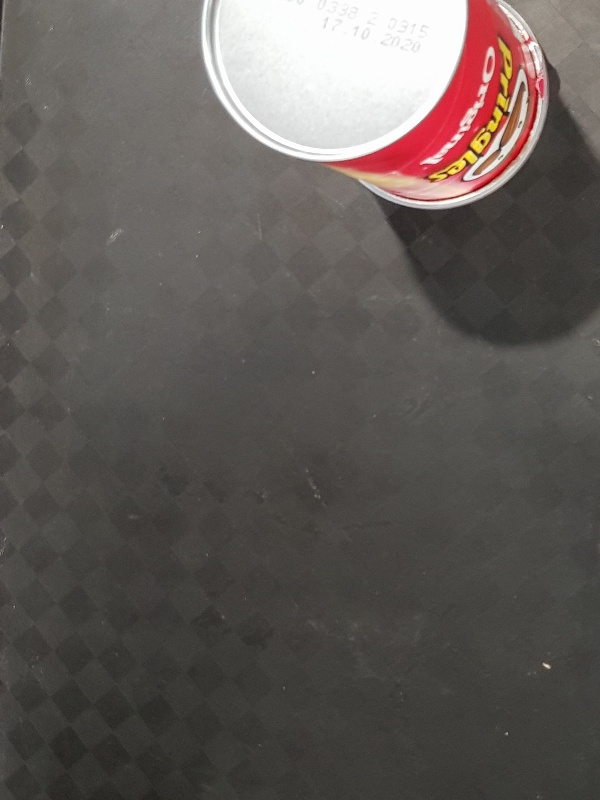Pringles Original: (201, 1, 547, 211)
